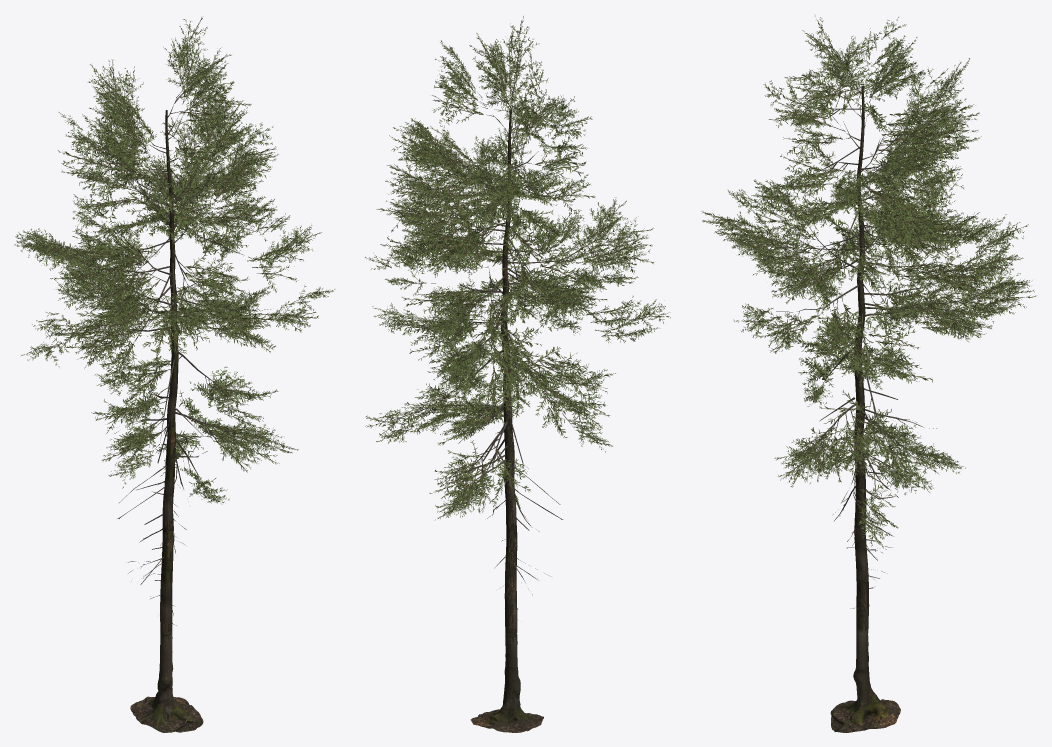
The model's file is fir_tree_01-b.glb.
The picture shows the model from 3 angles, left to right: view 1: azimuth 30°, elevation 25°; view 2: azimuth 150°, elevation 25°; view 3: azimuth 270°, elevation 25°; orthographic projection. The views are drawn at different scales.
Visible parts, largest first — view 1: NurbsPath.004; view 2: NurbsPath.004; view 3: NurbsPath.004.
Part boxes in pixels (left/top/right/bottom): NurbsPath.004: left=14, top=17, right=334, bottom=732; NurbsPath.004: left=365, top=16, right=670, bottom=732; NurbsPath.004: left=701, top=14, right=1036, bottom=732.
Bounding box in the file's own units: 5.58 × 14.06 × 6.02.
4 materials, 4 textured.
